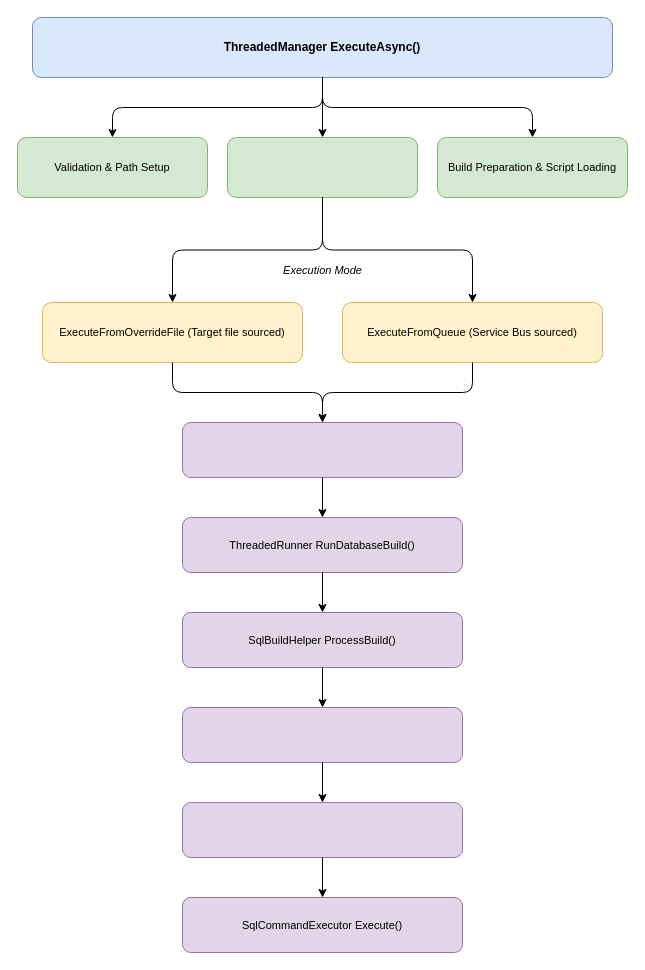
This 645x970 diagram has some shape labels left out. Here are the shapes that lost their labels. From the top down, the centre of each, then its label:
At pixel 322 167: "Script Source Config (SBM / DACPAC / Scripts)".
At pixel 322 450: "ProcessConcurrencyBucket (Parallel per bucket)".
At pixel 322 734: "SqlBuildOrchestrator Execute()".
At pixel 322 830: "SqlBuildRunner Run()".
